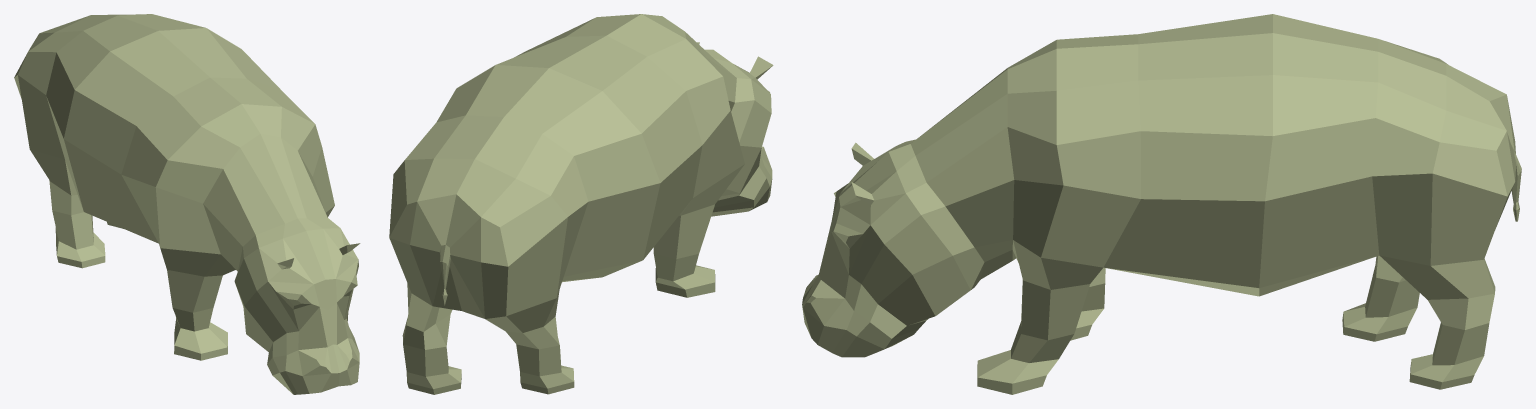
File: Nilpferd1.fbx
3 views of the same model, side by side, from view 1: azimuth 30°, elevation 25°; view 2: azimuth 150°, elevation 25°; view 3: azimuth 270°, elevation 25° (orthographic). The views are drawn at different scales.
Visible parts, largest first — view 1: Nilpferd; view 2: Nilpferd; view 3: Nilpferd.
Part boxes in pixels (x1,y1,x2,y2): Nilpferd: [14, 14, 360, 394]; Nilpferd: [389, 14, 773, 394]; Nilpferd: [802, 14, 1521, 394].
Size of the model in its own units: 1.36 by 1.64 by 3.35.
